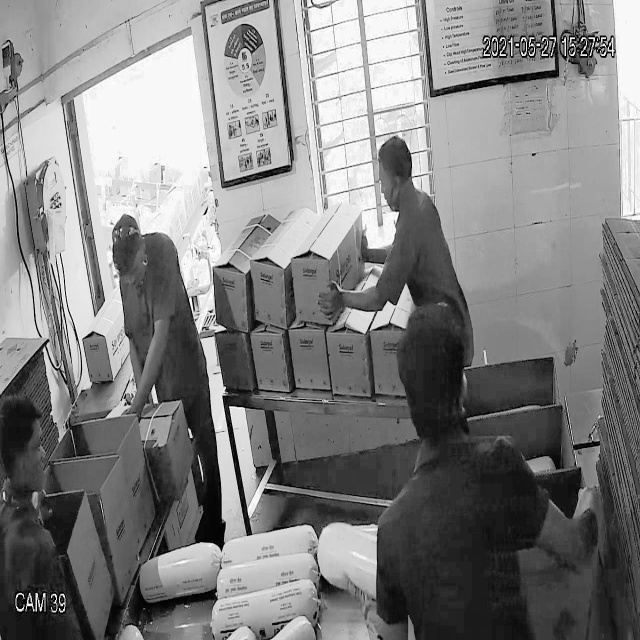Sin_gafas: (114, 262, 147, 282)
